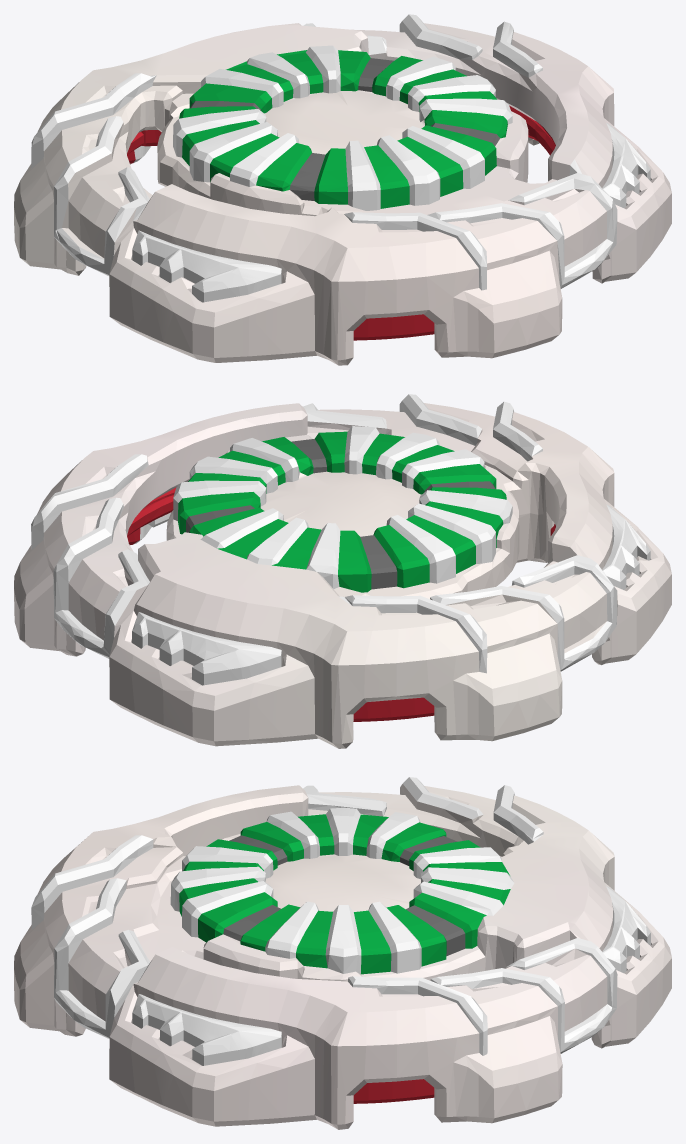
The model's file is eviperogeo.fbx.
3 views of the same model, one above another, from view 1: azimuth 30°, elevation 25°; view 2: azimuth 150°, elevation 25°; view 3: azimuth 270°, elevation 25° (orthographic).
Parts seen in each view (by area): view 1: EviperoGeo; view 2: EviperoGeo; view 3: EviperoGeo.
Boxes of the visible parts, x1,y1,x2,y2 form: EviperoGeo: (14,14,671,365); EviperoGeo: (14,394,671,748); EviperoGeo: (14,777,671,1129).
Size of the model in its own units: 0.4717 by 0.1146 by 0.4995.
Materials: 3 (2 with a texture image).
